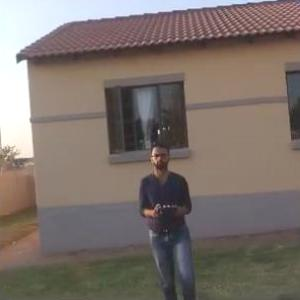follow: (134, 138, 200, 299)
